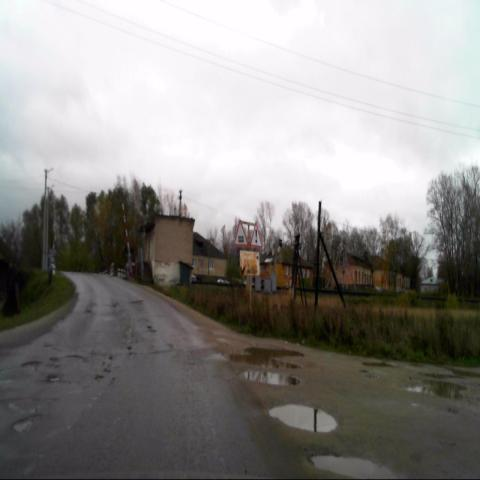1_1: (234, 218, 248, 246)
1_33: (250, 221, 262, 247)
